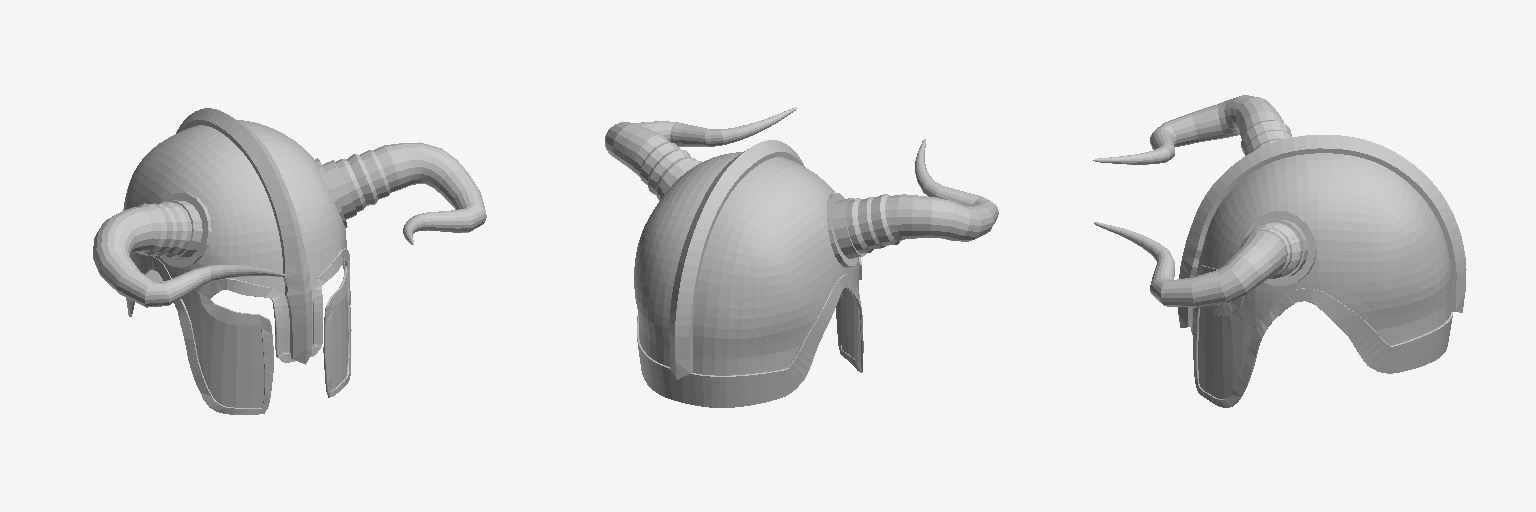
Rendered from helmet.obj.
3 renders of one model, left to right at view 1: azimuth 30°, elevation 25°; view 2: azimuth 150°, elevation 25°; view 3: azimuth 270°, elevation 25°, orthographic.
Parts seen in each view (by area): view 1: casque_low_Mesh.001, corne_low_Mesh.005, bar_low_Mesh.004, basecorne_low_Mesh.006; view 2: casque_low_Mesh.001, corne_low_Mesh.005, bar_low_Mesh.004, basecorne_low_Mesh.006; view 3: casque_low_Mesh.001, corne_low_Mesh.005, bar_low_Mesh.004, basecorne_low_Mesh.006.
Boxes of the visible parts, x1=… form: casque_low_Mesh.001: x1=123, y1=108, x2=347, y2=407; corne_low_Mesh.005: x1=93, y1=142, x2=486, y2=307; bar_low_Mesh.004: x1=126, y1=248, x2=351, y2=414; basecorne_low_Mesh.006: x1=160, y1=158, x2=356, y2=267; casque_low_Mesh.001: x1=634, y1=140, x2=859, y2=379; corne_low_Mesh.005: x1=605, y1=107, x2=998, y2=253; bar_low_Mesh.004: x1=637, y1=257, x2=863, y2=407; basecorne_low_Mesh.006: x1=660, y1=160, x2=866, y2=267; casque_low_Mesh.001: x1=1178, y1=135, x2=1466, y2=398; corne_low_Mesh.005: x1=1093, y1=95, x2=1302, y2=307; bar_low_Mesh.004: x1=1191, y1=265, x2=1452, y2=407; basecorne_low_Mesh.006: x1=1245, y1=211, x2=1316, y2=285.
Bounding box in the file's own units: 7.41 × 4.65 × 6.48.